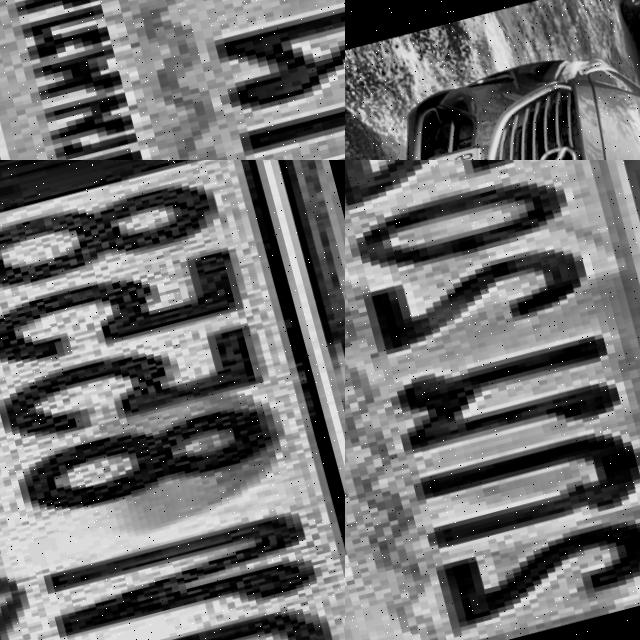license-plate: (0, 160, 345, 640), (345, 160, 640, 640), (0, 0, 345, 160), (413, 136, 503, 160)
